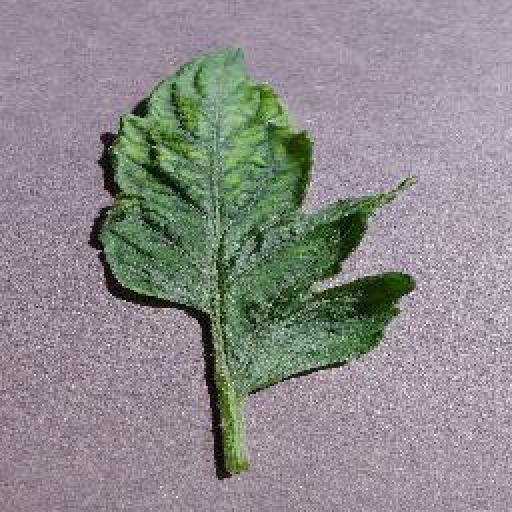Mosaic Virus: (93, 34, 415, 392)
